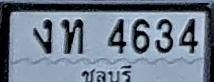3: (155, 18, 173, 53)
4: (178, 18, 198, 53), (108, 18, 126, 53)
6: (132, 18, 150, 53)
A07: (33, 19, 52, 53)
A23: (62, 18, 84, 54)
CBI: (77, 64, 135, 82)
